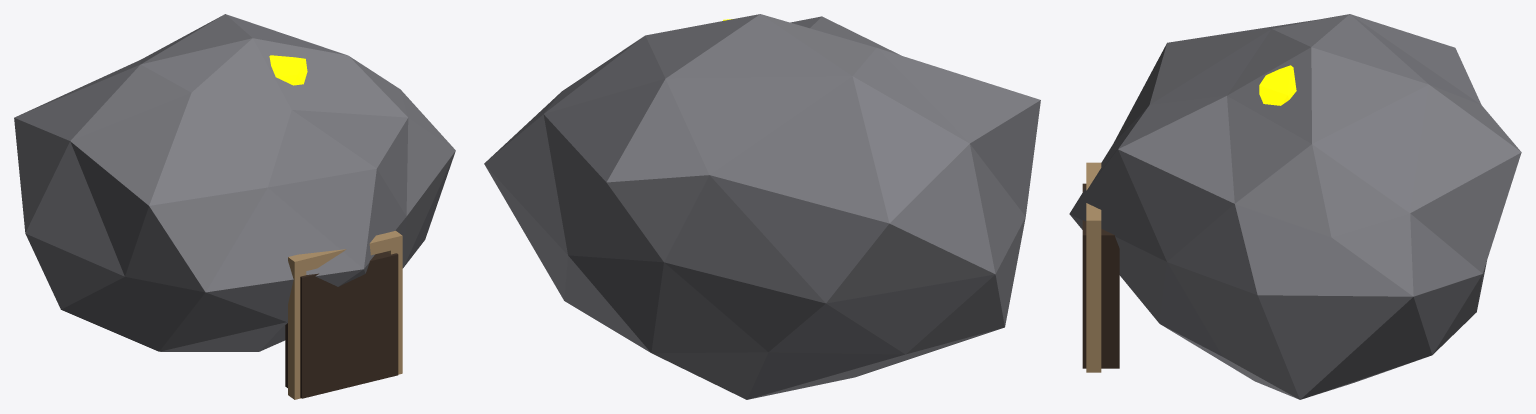
Rendered from gold_mine.glb.
3 views of the same model, side by side, from view 1: azimuth 30°, elevation 25°; view 2: azimuth 150°, elevation 25°; view 3: azimuth 270°, elevation 25° (orthographic). The views are drawn at different scales.
Visible parts, largest first — view 1: GoldMine; view 2: GoldMine; view 3: GoldMine.
Boxes of the visible parts, left/top/right/bottom form: GoldMine: left=14, top=14, right=455, bottom=399; GoldMine: left=484, top=14, right=1040, bottom=399; GoldMine: left=1069, top=14, right=1521, bottom=399.
Bounding box in the file's own units: 2.06 × 1.46 × 1.85.
